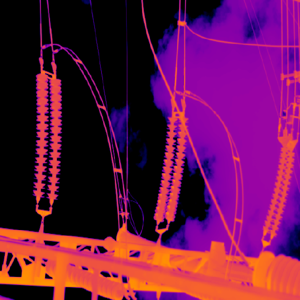insulator: (151, 108, 189, 233), (259, 138, 298, 246), (32, 67, 58, 217)
